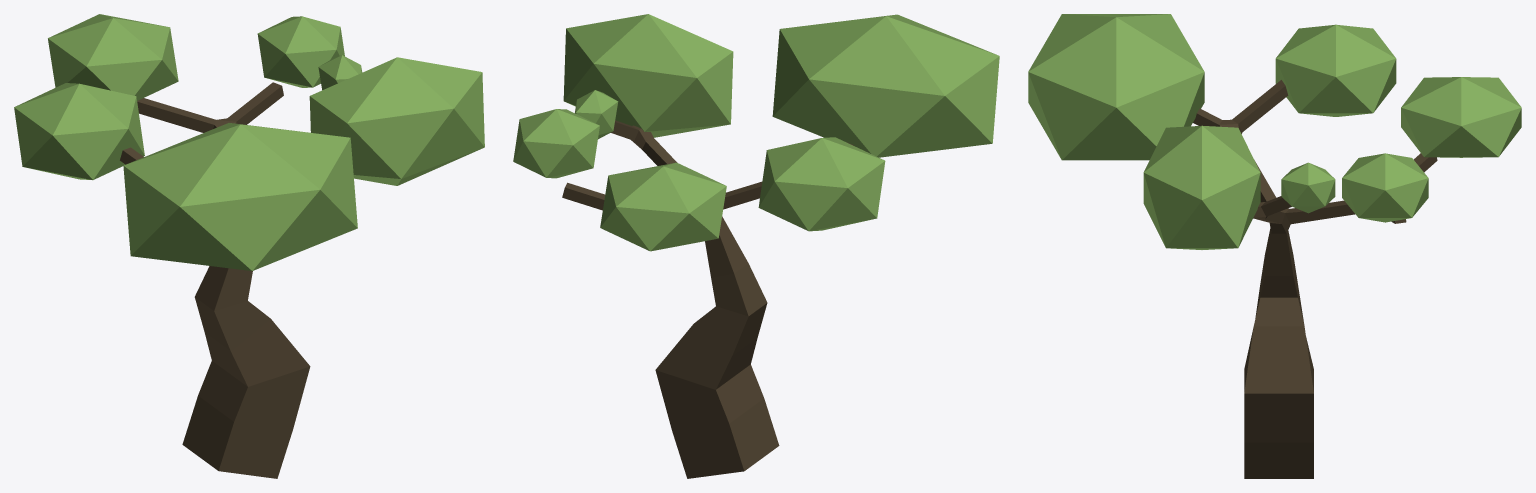
The model's file is pokok.fbx.
3 views of the same model, side by side, from view 1: azimuth 30°, elevation 25°; view 2: azimuth 150°, elevation 25°; view 3: azimuth 270°, elevation 25° (orthographic). The views are drawn at different scales.
Visible parts, largest first — view 1: Icosphere.005, Cube, Icosphere.004, Icosphere, Icosphere.001, Icosphere.002, Icosphere.003; view 2: Icosphere.005, Cube, Icosphere.004, Icosphere, Icosphere.001, Icosphere.002, Icosphere.003; view 3: Icosphere.005, Cube, Icosphere.004, Icosphere, Icosphere.001, Icosphere.002, Icosphere.003.
Boxes of the visible parts, bbox=[...] form: Icosphere.005: bbox=[123, 123, 357, 270]; Cube: bbox=[120, 82, 310, 478]; Icosphere.004: bbox=[309, 57, 484, 185]; Icosphere: bbox=[14, 83, 144, 180]; Icosphere.001: bbox=[48, 14, 178, 100]; Icosphere.002: bbox=[257, 16, 344, 87]; Icosphere.003: bbox=[318, 55, 362, 90]; Icosphere.005: bbox=[772, 14, 999, 157]; Cube: bbox=[562, 120, 853, 478]; Icosphere.004: bbox=[563, 14, 733, 137]; Icosphere: bbox=[758, 137, 885, 231]; Icosphere.001: bbox=[600, 162, 726, 251]; Icosphere.002: bbox=[513, 109, 599, 178]; Icosphere.003: bbox=[575, 90, 618, 139]; Icosphere.005: bbox=[1028, 14, 1204, 160]; Cube: bbox=[1193, 80, 1437, 478]; Icosphere.004: bbox=[1143, 125, 1260, 249]; Icosphere: bbox=[1275, 24, 1396, 116]; Icosphere.001: bbox=[1401, 77, 1521, 157]; Icosphere.002: bbox=[1342, 153, 1428, 222]; Icosphere.003: bbox=[1281, 162, 1335, 213].
Size of the model in its own units: 622 by 642 by 695.
